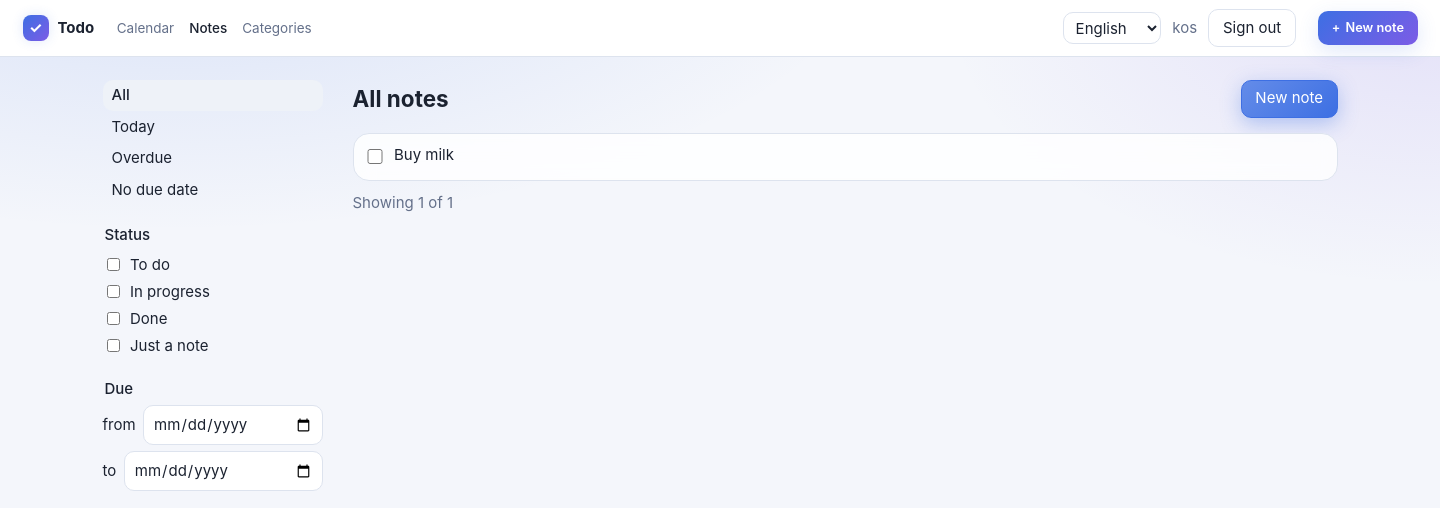
notes list › puts the checkbox back when saving fails
This screenshot has width=1440, height=508.
Click the checkbox named "Done: Buy milk" at [375, 156], box [367, 148, 383, 164]
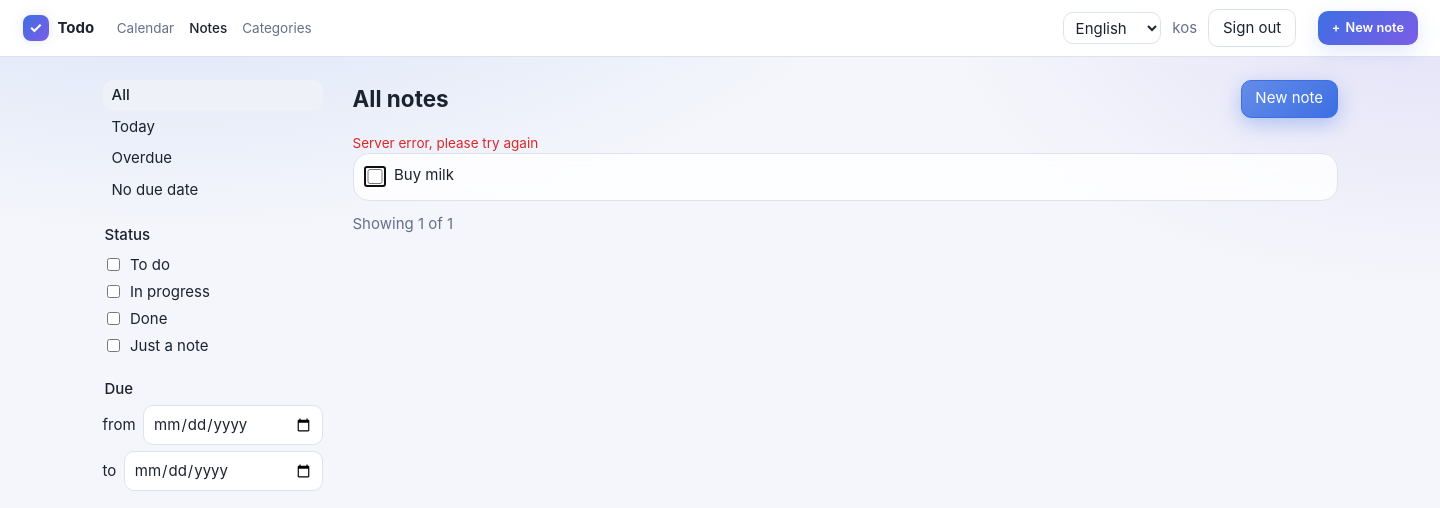
Now the message reads "Server error, please try again", box [352, 134, 538, 150]
